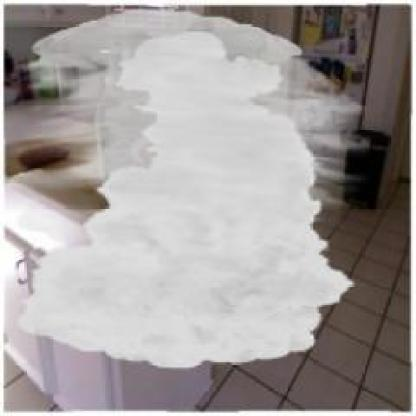Smoke: (4, 10, 369, 370)
